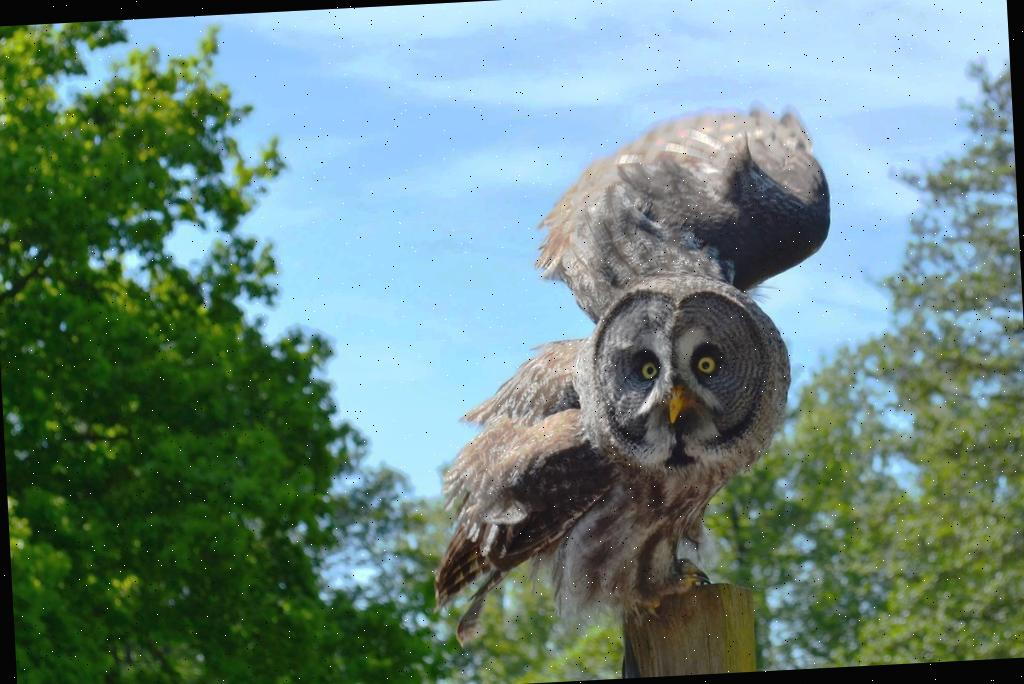Owl: (407, 97, 854, 652)
